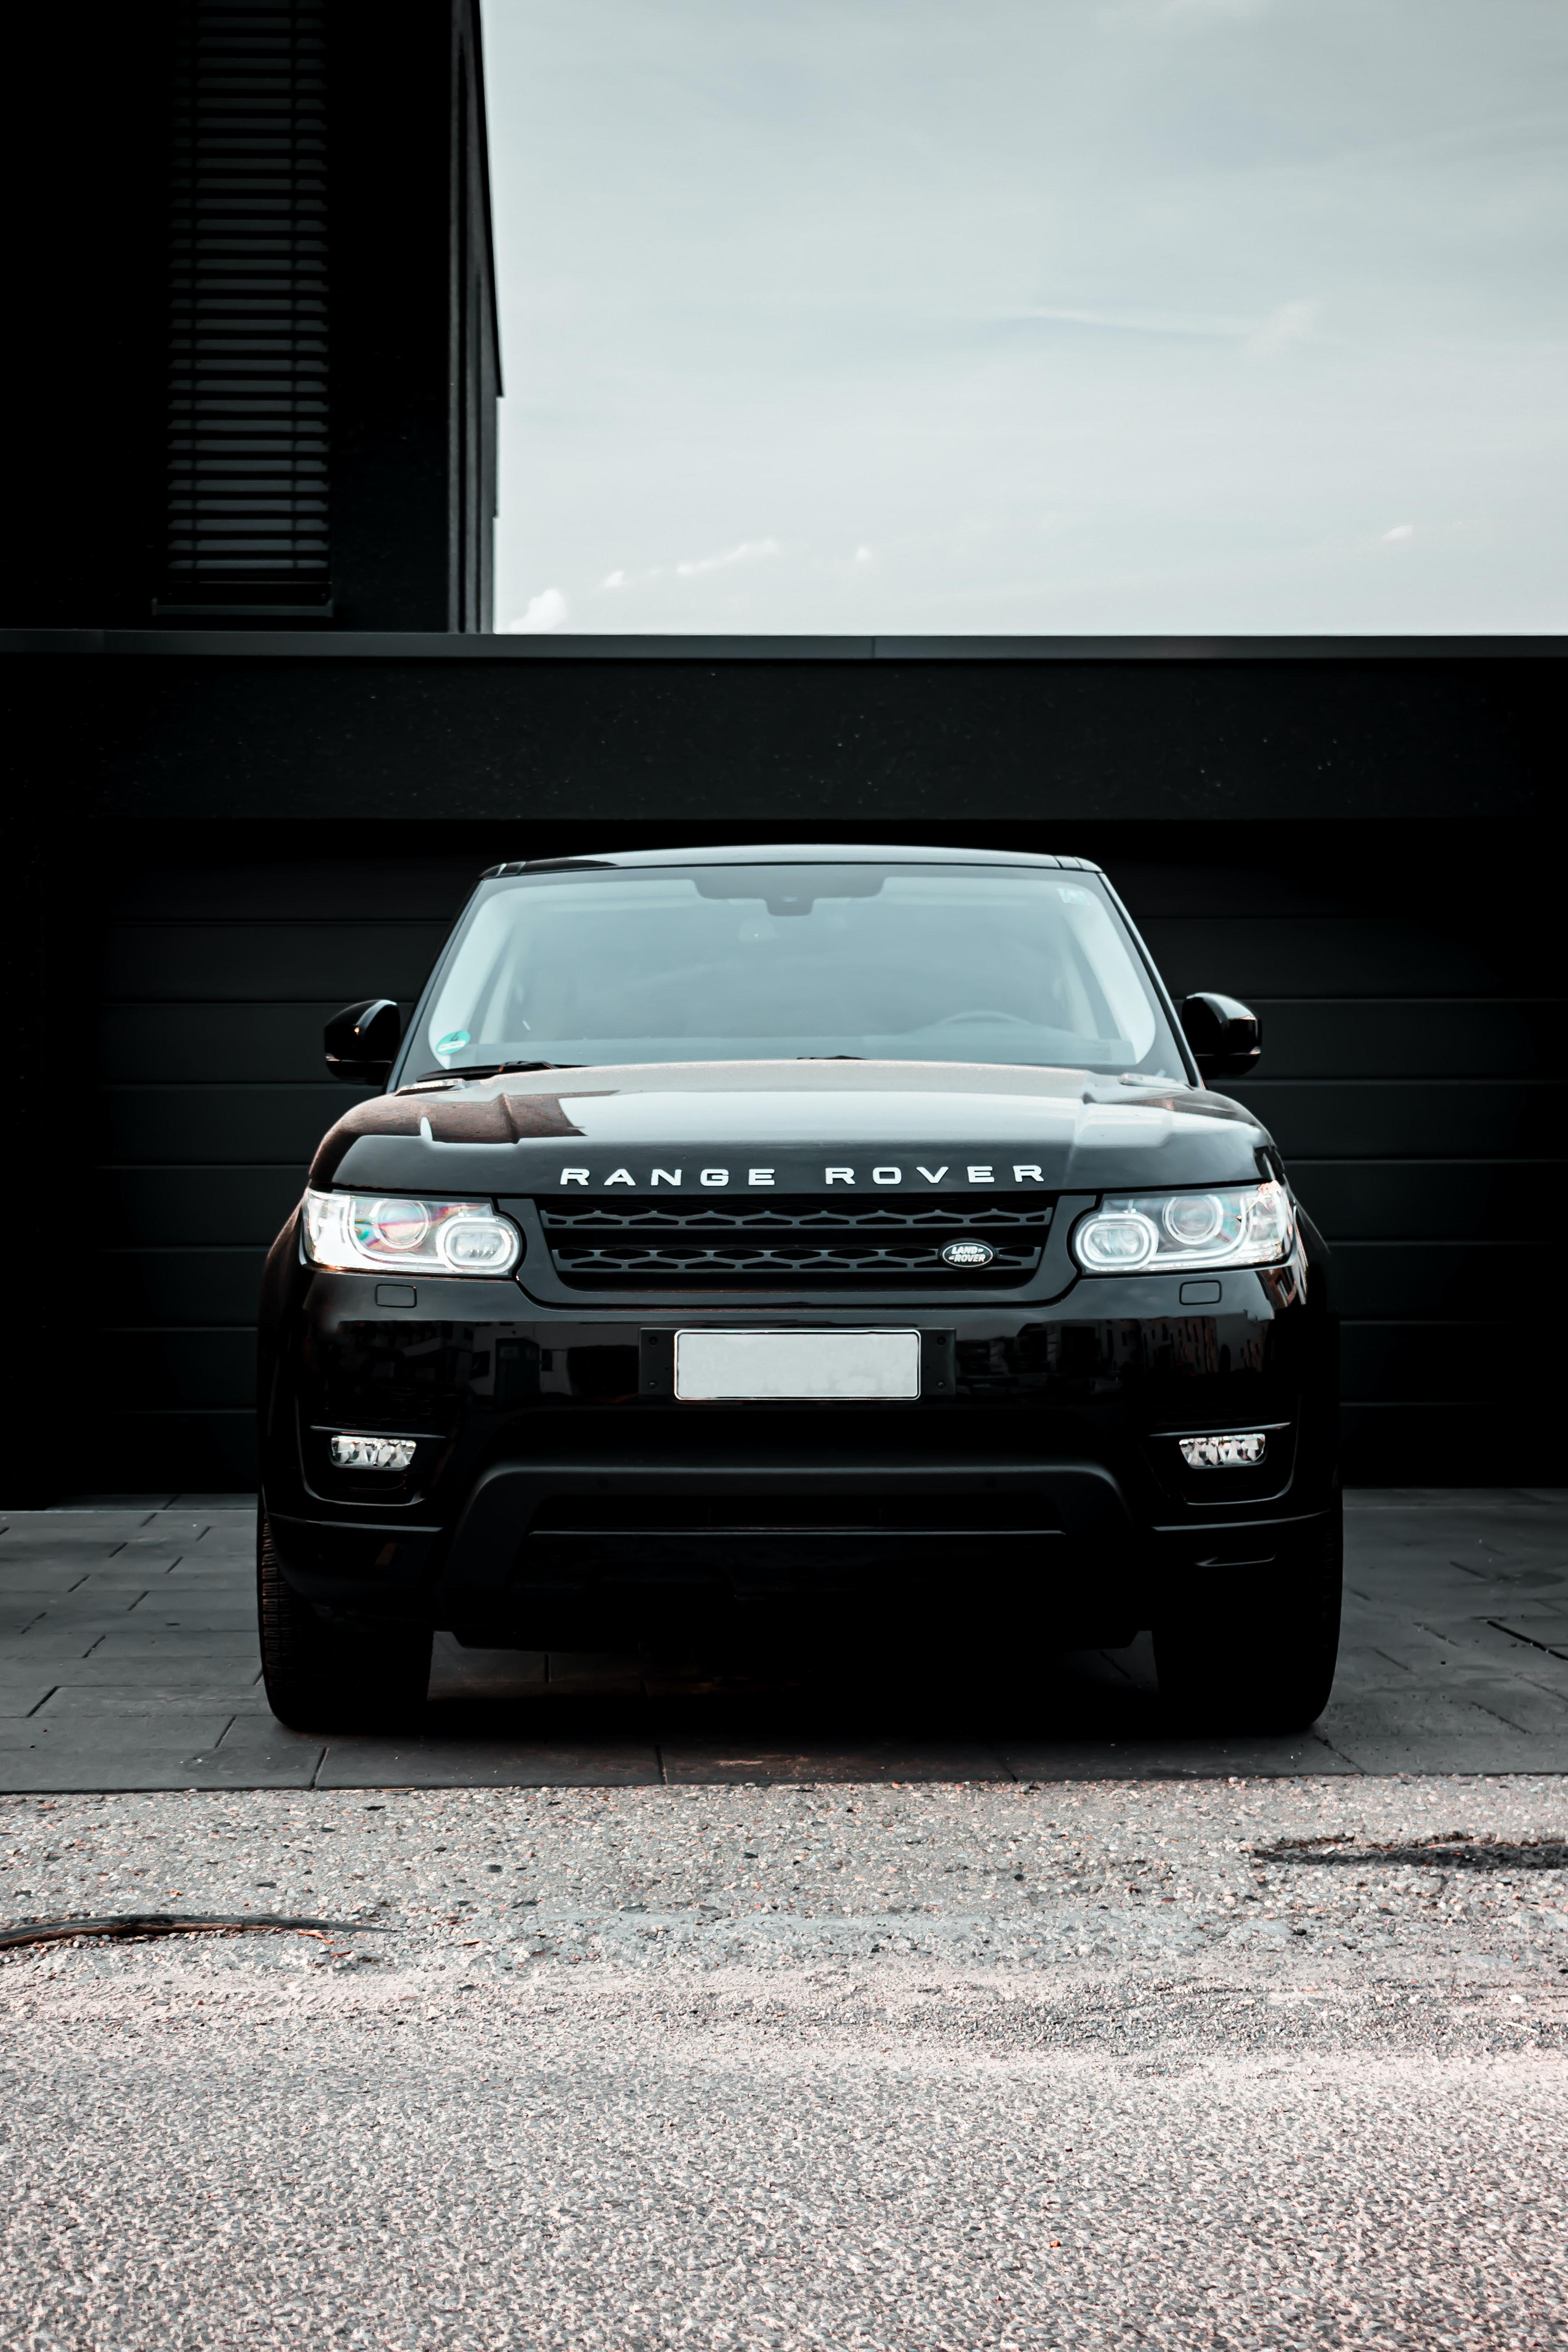range rover: (537, 1143, 1055, 1202)
